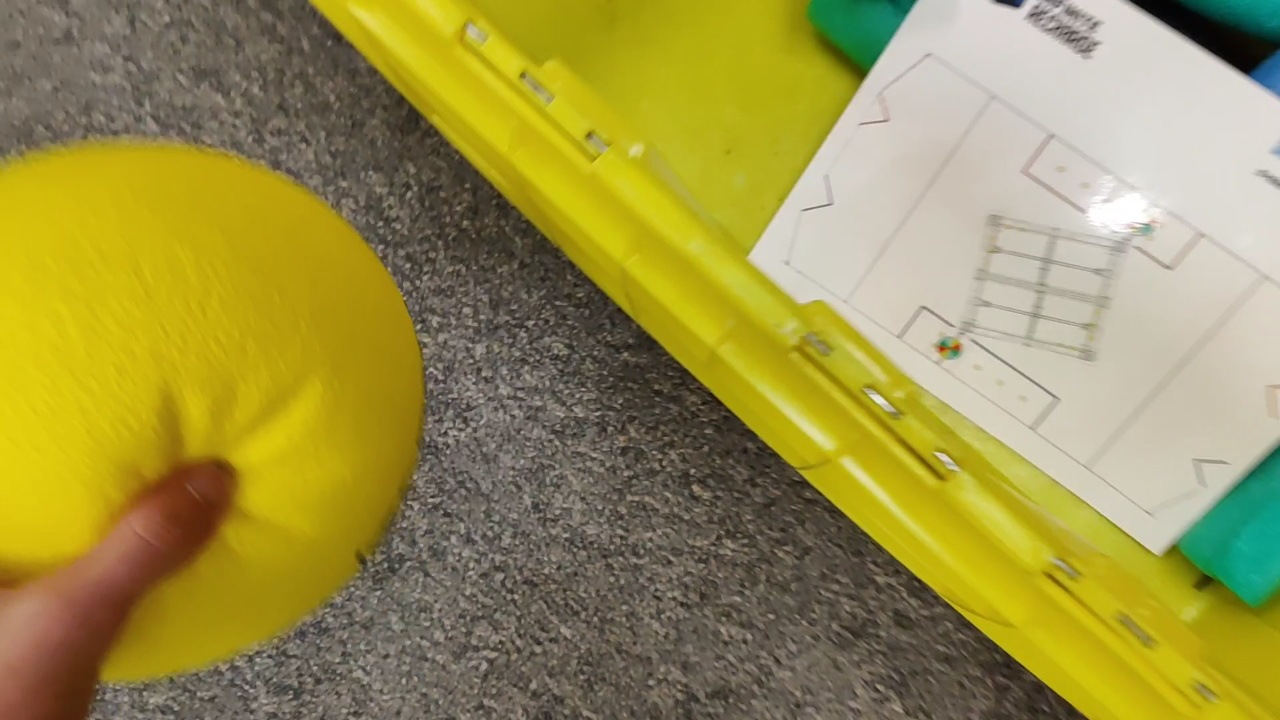Ball: (1, 140, 426, 687)
